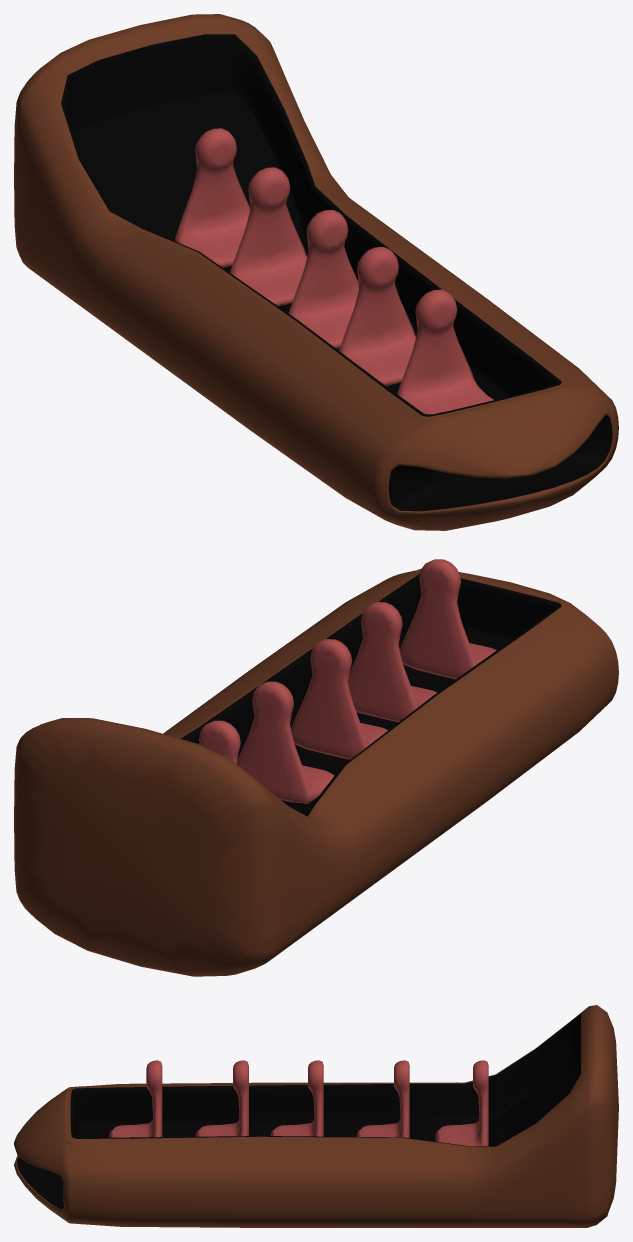
File: PlashMountainLog.fbx
The picture shows the model from 3 angles, top to bottom: view 1: azimuth 30°, elevation 25°; view 2: azimuth 150°, elevation 25°; view 3: azimuth 270°, elevation 25°; orthographic projection. The views are drawn at different scales.
Parts seen in each view (by area): view 1: pCube516; view 2: pCube516; view 3: pCube516.
Boxes of the visible parts, x1,y1,x2,y2 form: pCube516: [14, 14, 618, 530]; pCube516: [14, 559, 618, 976]; pCube516: [14, 1005, 618, 1227].
Size of the model in its own units: 16.42 by 14.46 by 44.67.
